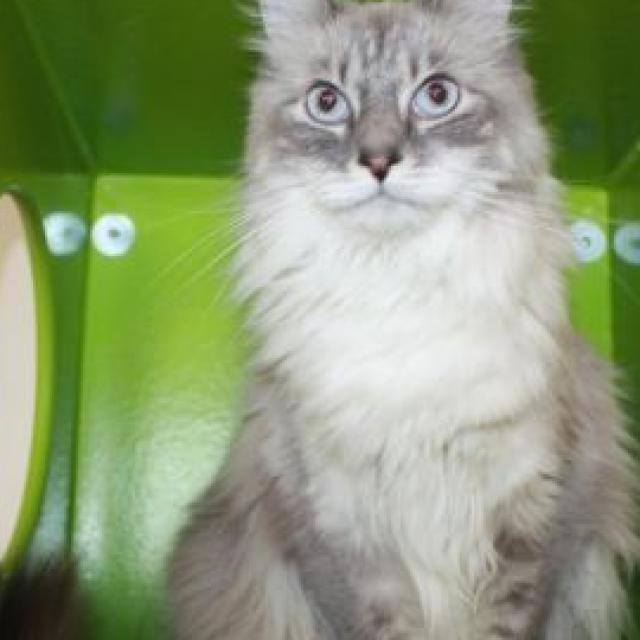Ragdoll: (149, 0, 640, 640)
